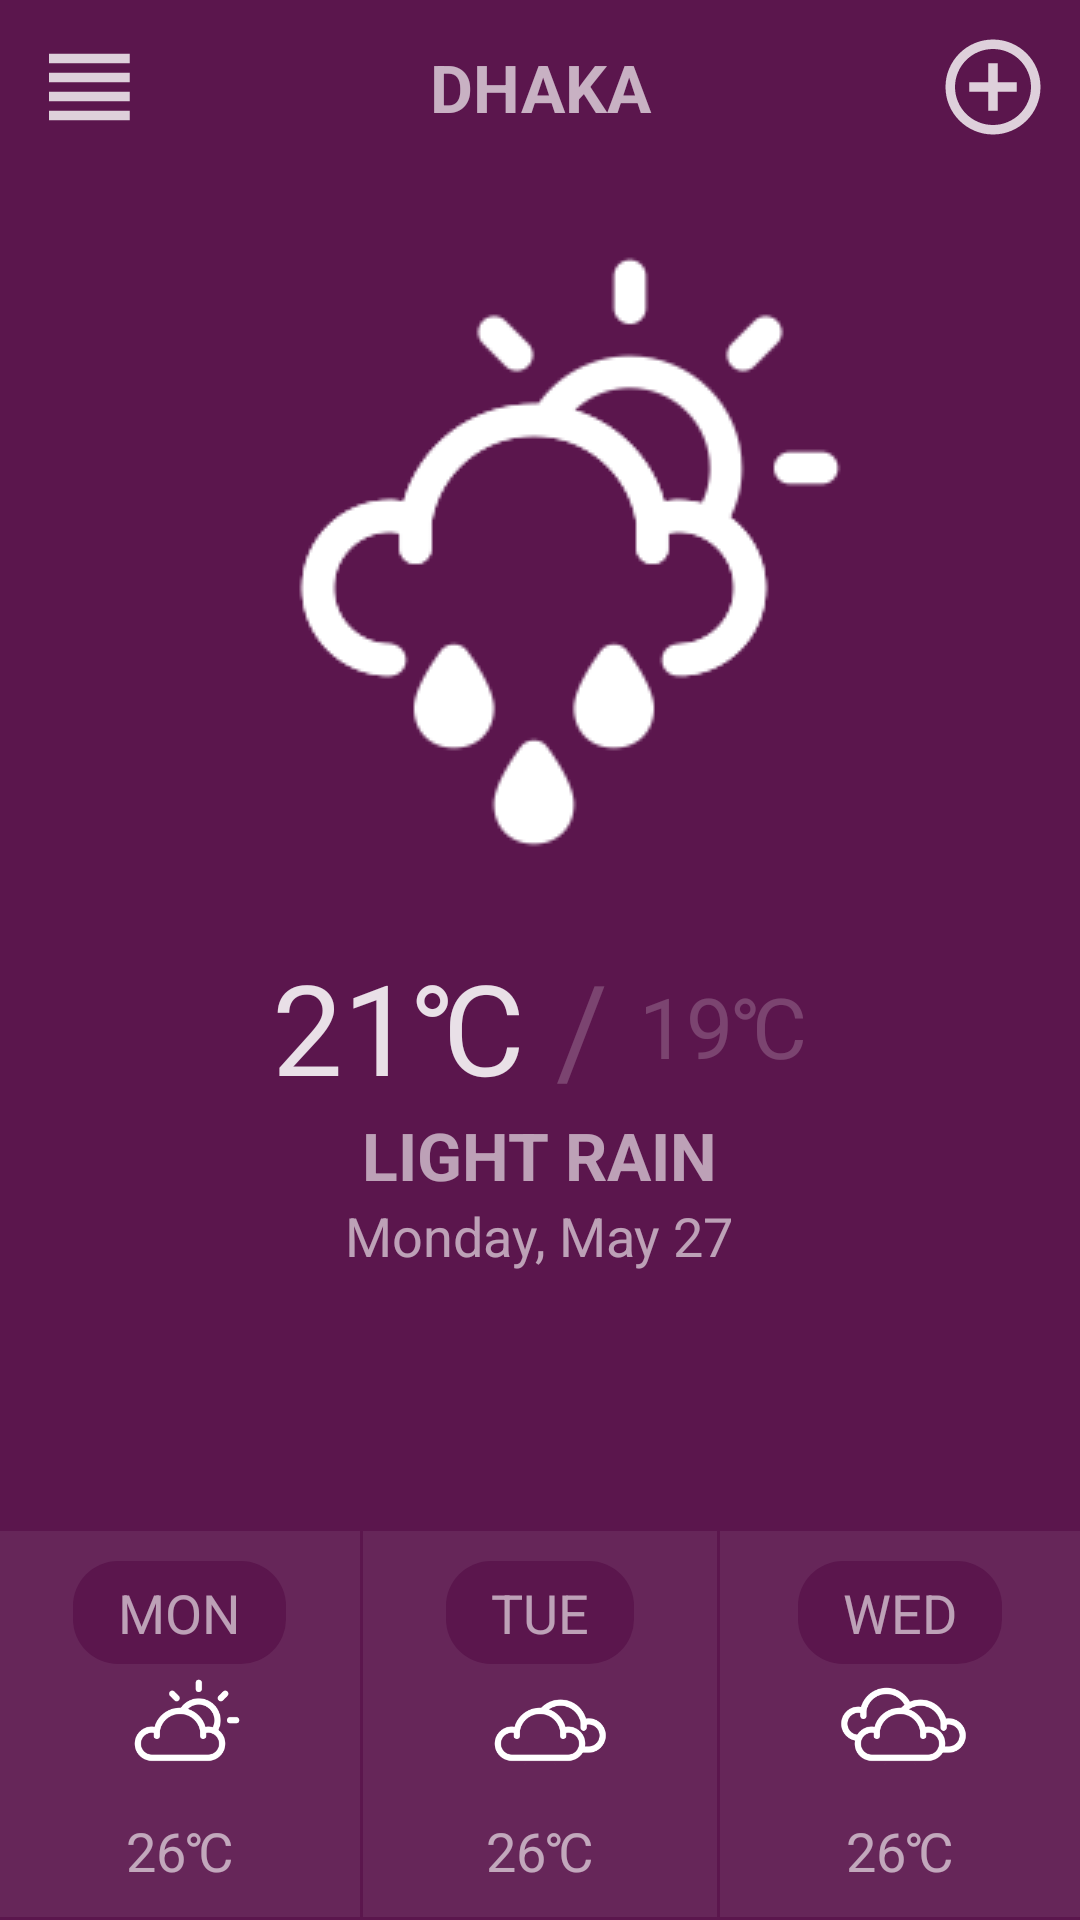

Named icons in this screenshot (1080 × 1920) and their centers, point (x, y):
add: point (993, 87)
menu: point (89, 87)
